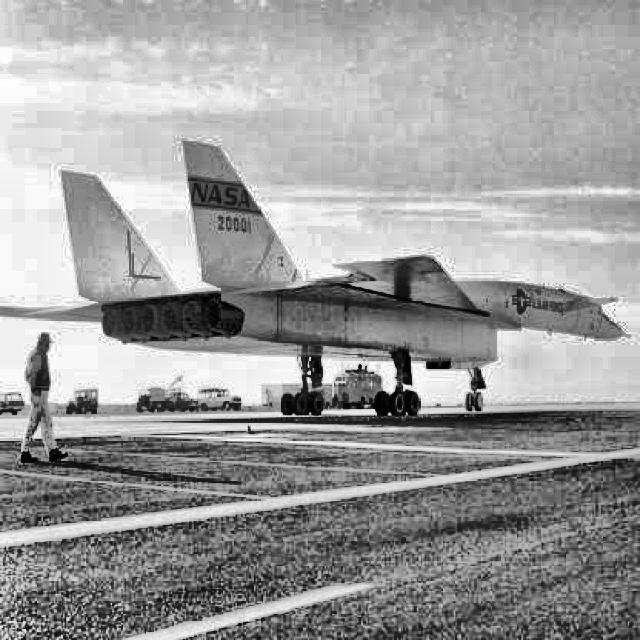XB70: (0, 139, 629, 415)
